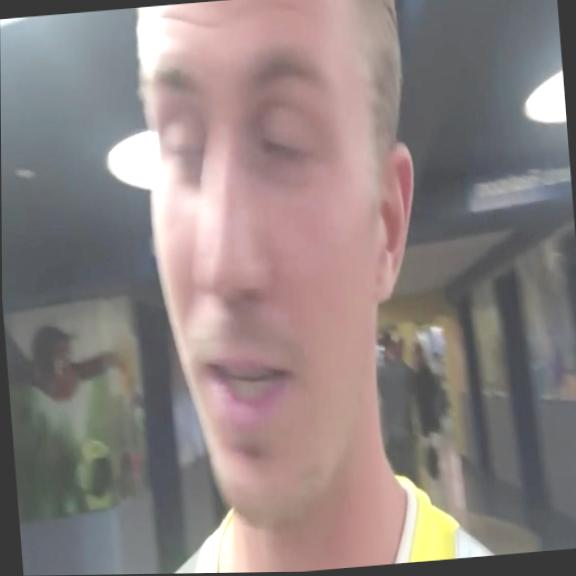safety_vest: (152, 464, 463, 574)
